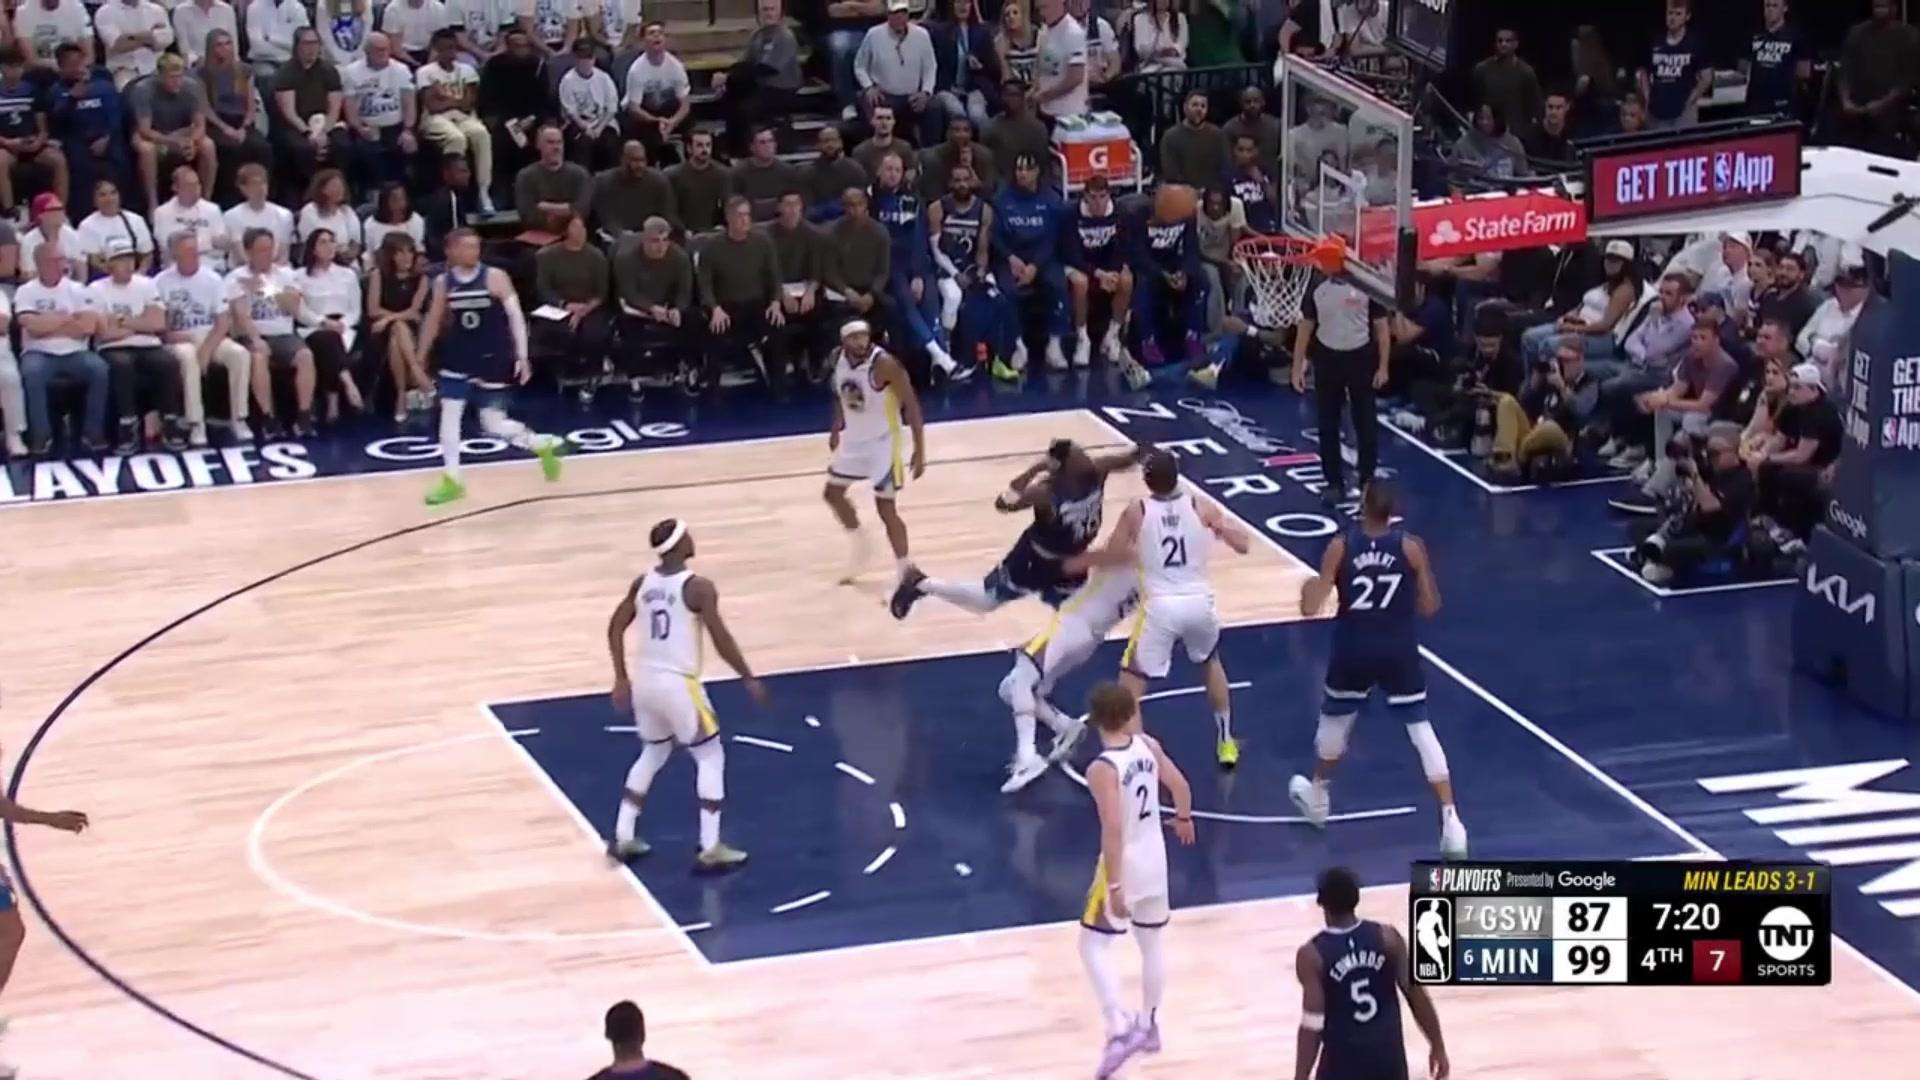foul: (943, 413, 1189, 769)
